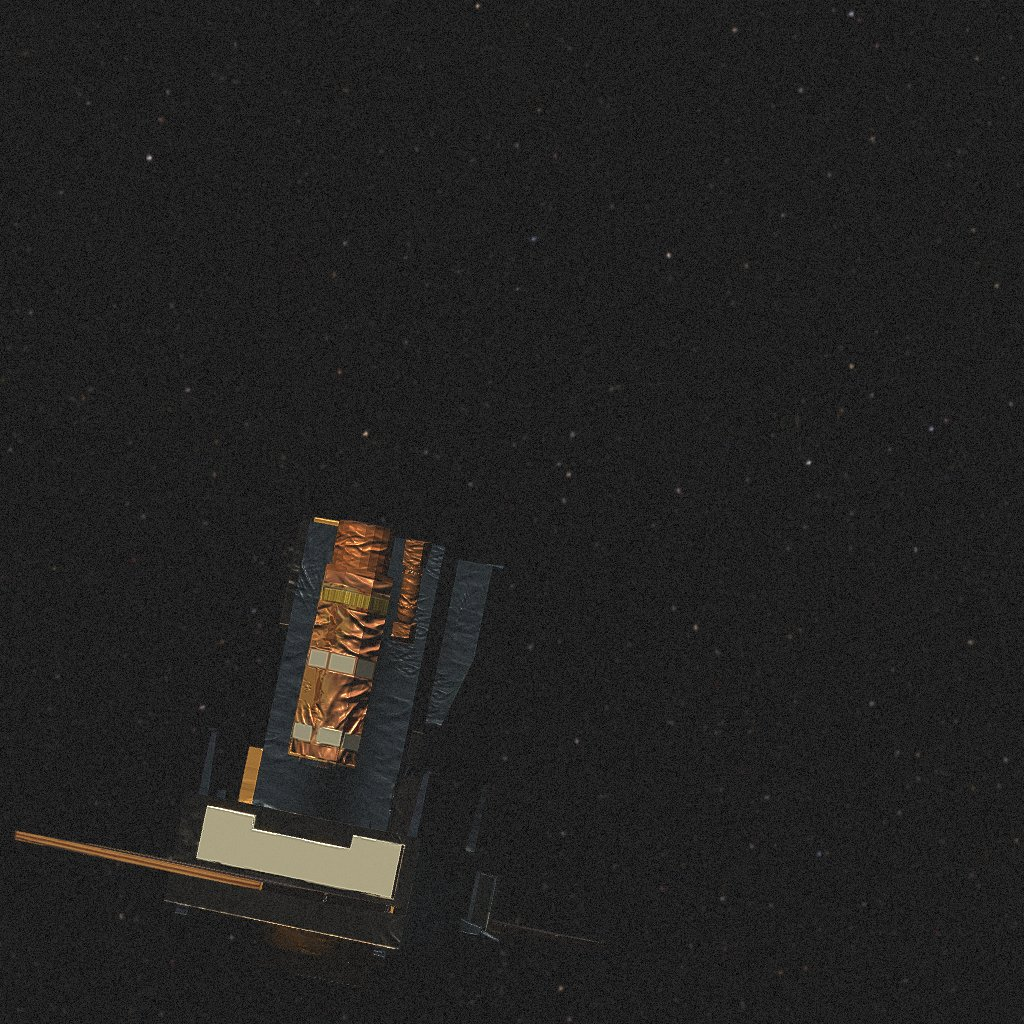soho: (14, 515, 605, 1024)
